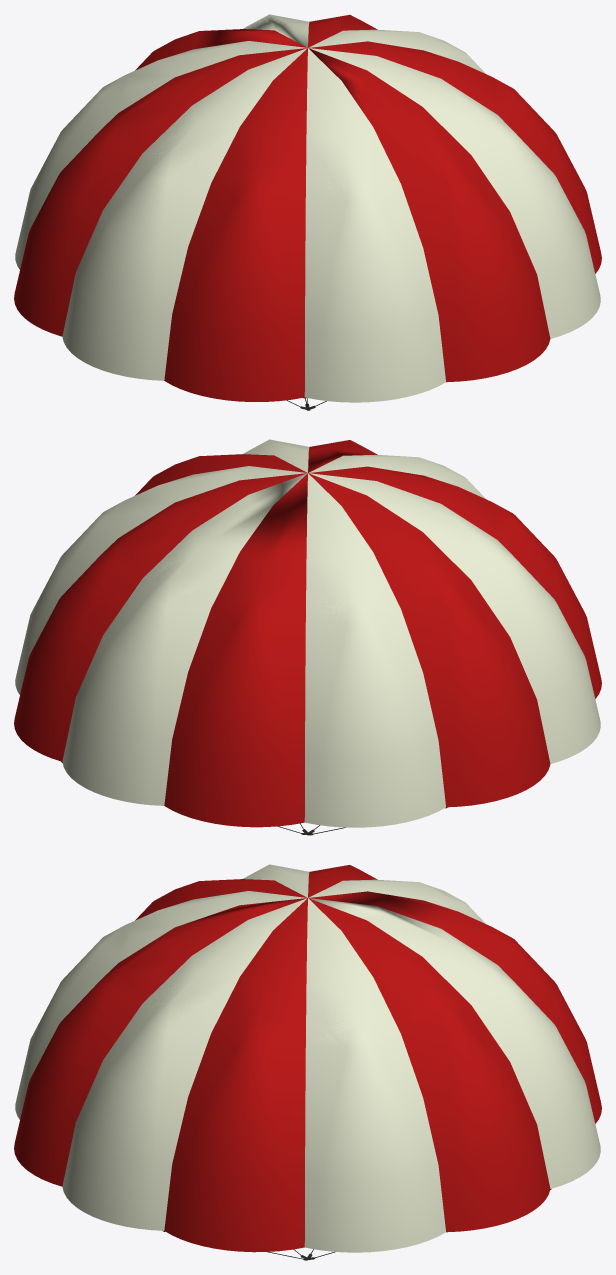
File: parasuta.fbx
The picture shows the model from 3 angles, top to bottom: view 1: azimuth 30°, elevation 25°; view 2: azimuth 150°, elevation 25°; view 3: azimuth 270°, elevation 25°; orthographic projection.
Visible parts, largest first — view 1: Group3; view 2: Group3; view 3: Group3.
Boxes of the visible parts, <box> form: Group3: <box>14,14,601,402</box>; Group3: <box>14,439,601,827</box>; Group3: <box>14,864,601,1252</box>.
Size of the model in its own units: 645 by 438 by 645.
